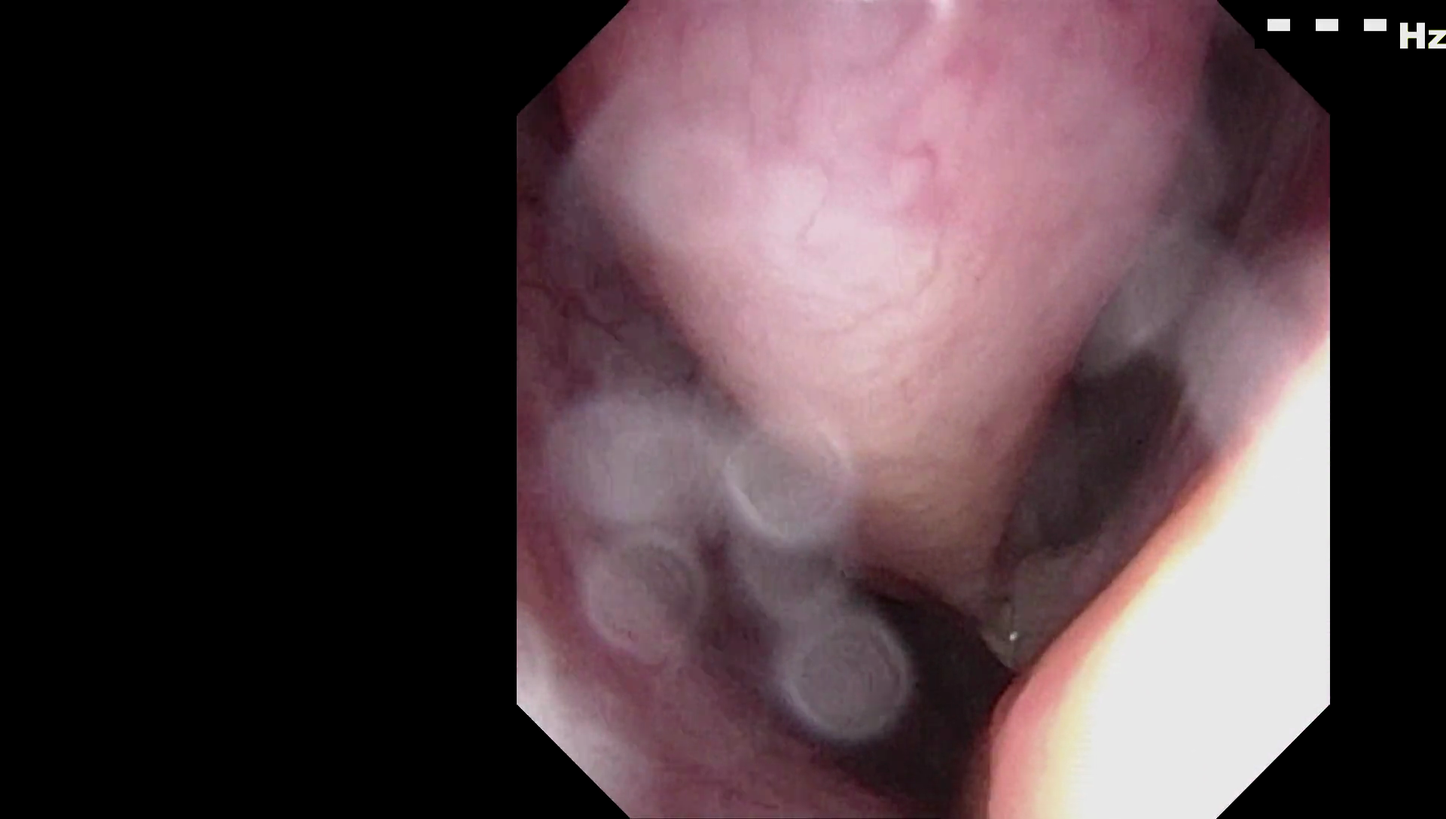close_wall: (1029, 391, 1320, 796)
next: (776, 537, 1037, 819), (996, 287, 1197, 610)
